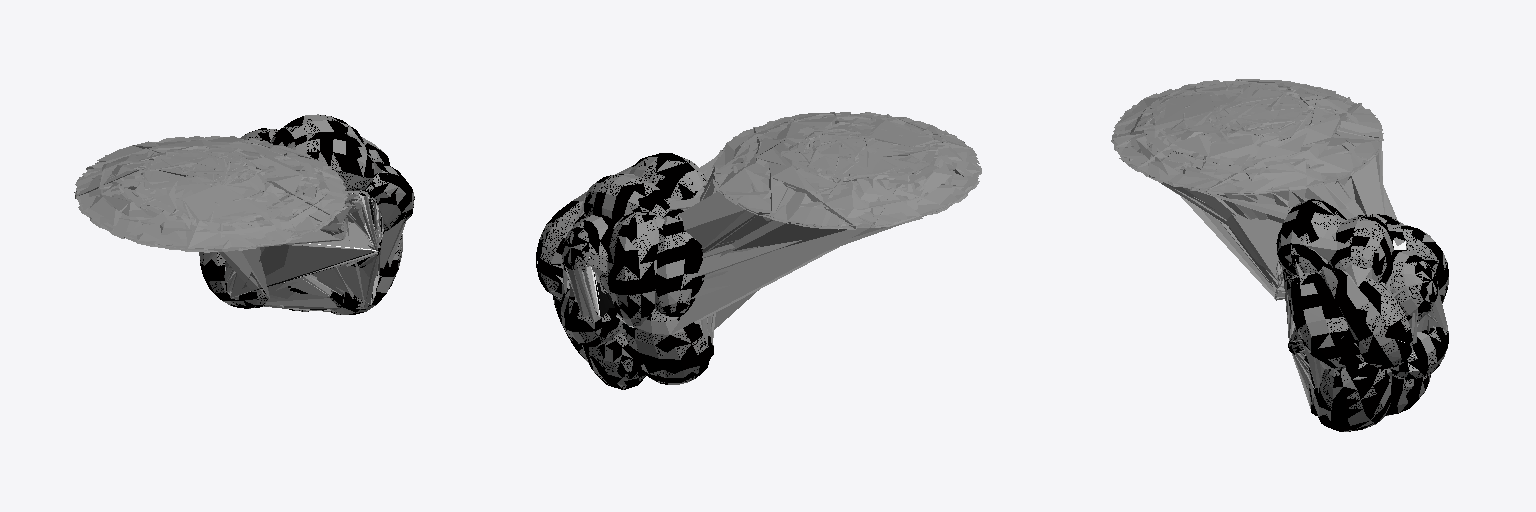
The picture shows the model from 3 angles: view 1: azimuth 30°, elevation 25°; view 2: azimuth 150°, elevation 25°; view 3: azimuth 270°, elevation 25°; orthographic projection.
Parts seen in each view (by area): view 1: Body, Hair001, Hair, Shield, Head, Teeth, Eyes, Irises; view 2: Body, Hair001, Hair, Eyes, Head; view 3: Body, Hair001, Hair, Head.
Part boxes in pixels (x1,y1,x2,y2): Body: (74, 114, 406, 308); Hair001: (200, 115, 414, 314); Hair: (199, 114, 414, 314); Shield: (228, 196, 383, 308); Head: (225, 193, 382, 307); Teeth: (229, 222, 372, 310); Eyes: (225, 193, 382, 310); Irises: (286, 227, 374, 310); Body: (553, 112, 981, 384); Hair001: (536, 153, 713, 389); Hair: (539, 157, 712, 389); Eyes: (537, 206, 633, 327); Head: (561, 217, 713, 345); Body: (1111, 79, 1447, 431); Hair001: (1276, 199, 1448, 431); Hair: (1277, 200, 1448, 431); Head: (1289, 263, 1446, 405).
Bounding box in the file's own units: 2.59 × 1.57 × 2.13.
Materials: 5 (3 with a texture image).